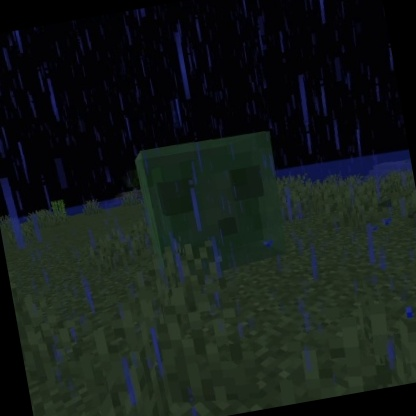slime: (127, 121, 299, 286)
